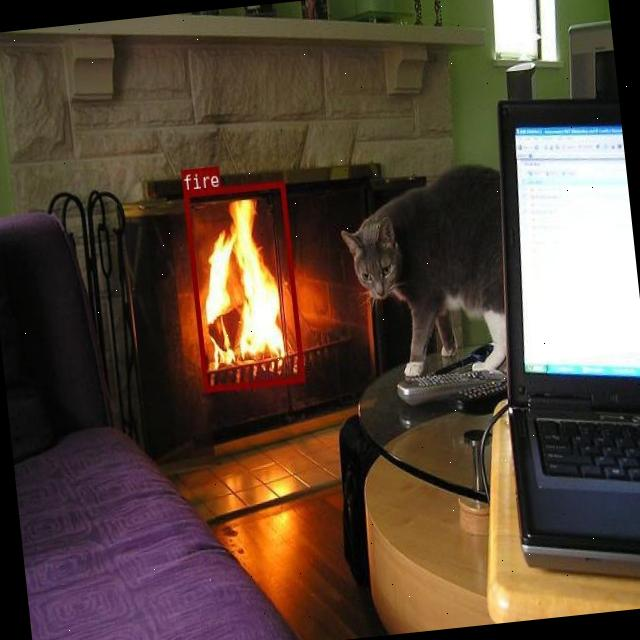fire: (183, 180, 304, 390)
